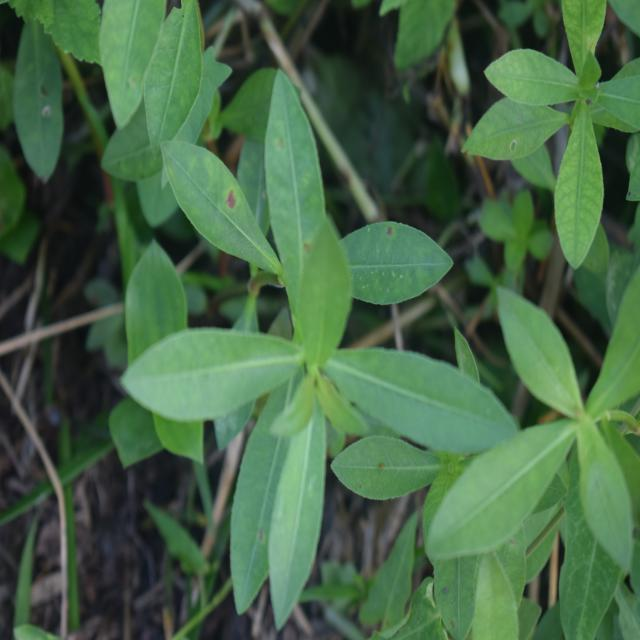Alligatorweed: (148, 116, 464, 552)
